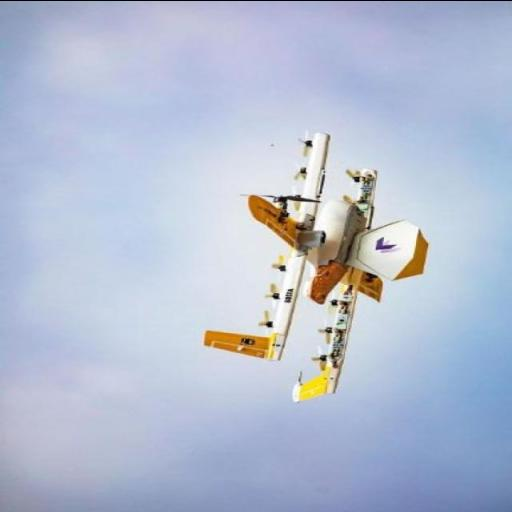uav: (202, 130, 436, 404)
